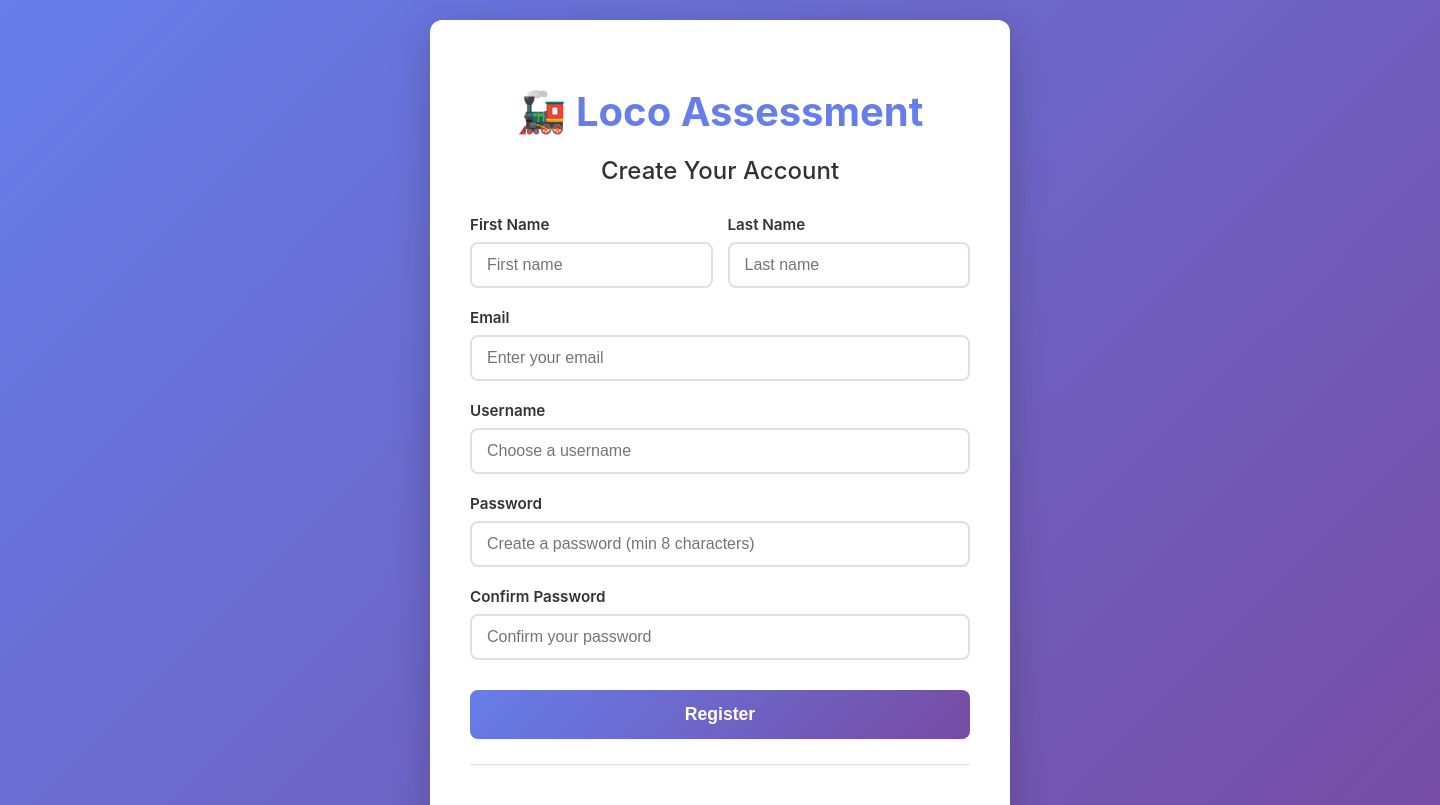
Test: Register Component › handles registration failure
The width and height of the screenshot is (1440, 805).
Type "John" into the field labelled "First Name" at {"x": 591, "y": 265}, box [470,242,712,288]
Type "Doe" into the field labelled "Last Name" at {"x": 849, "y": 265}, box [728,242,970,288]
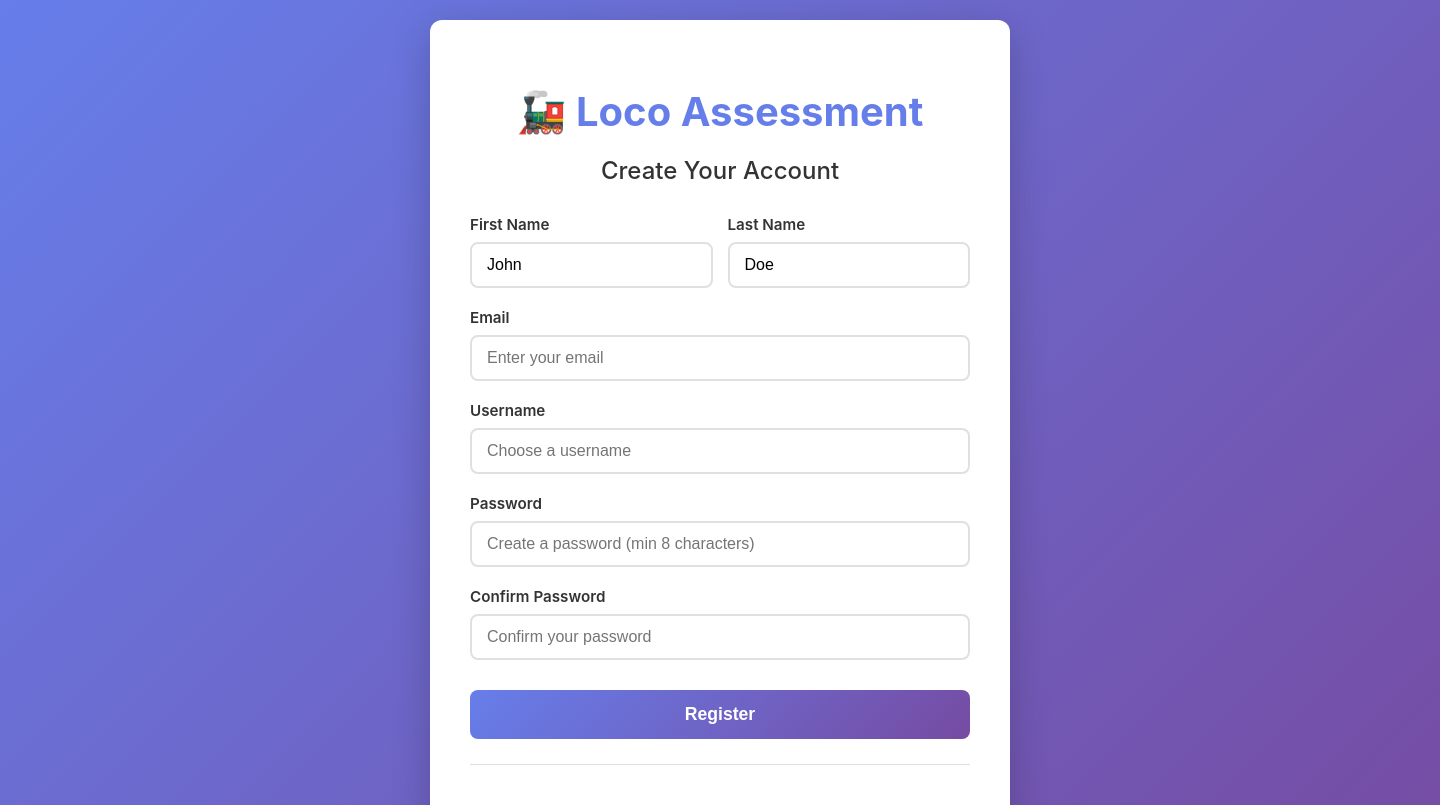
Type "existing@example.com" into the field labelled "Email" at {"x": 720, "y": 358}, box [470,335,970,381]
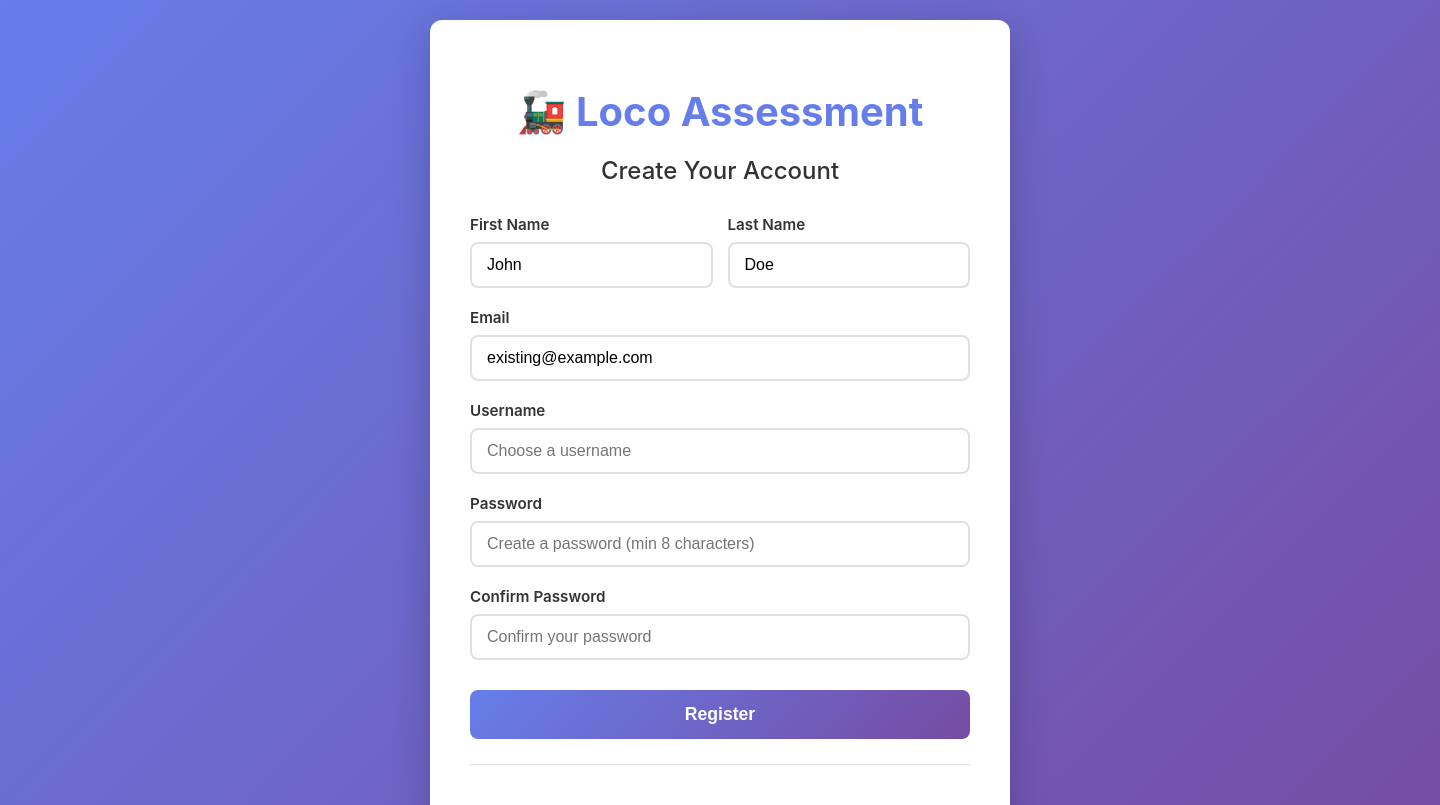
Type "johndoe" into the field labelled "Username" at {"x": 720, "y": 451}, box [470,428,970,474]
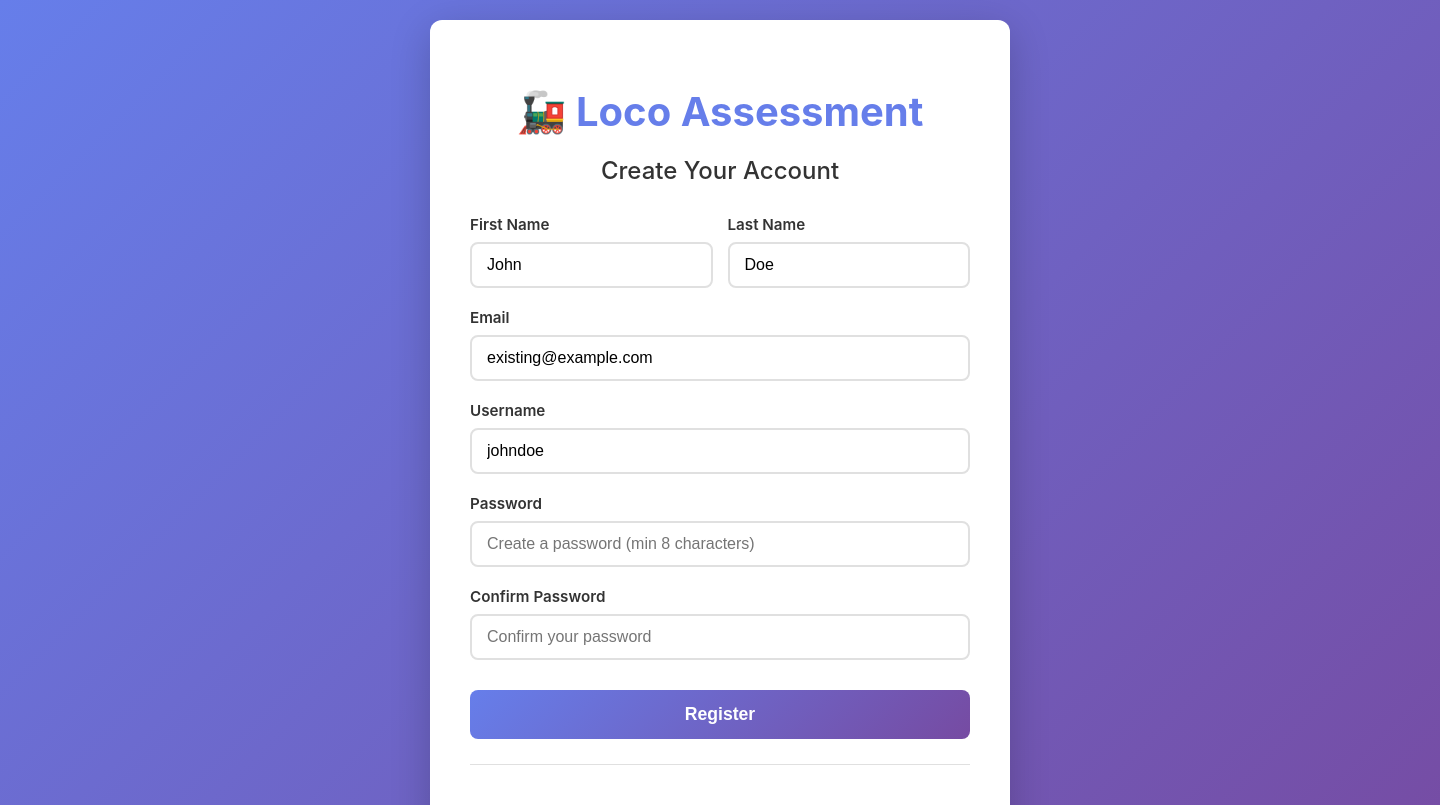
Type "password123" into the password field labelled "Password" at {"x": 720, "y": 544}, box [470,521,970,567]
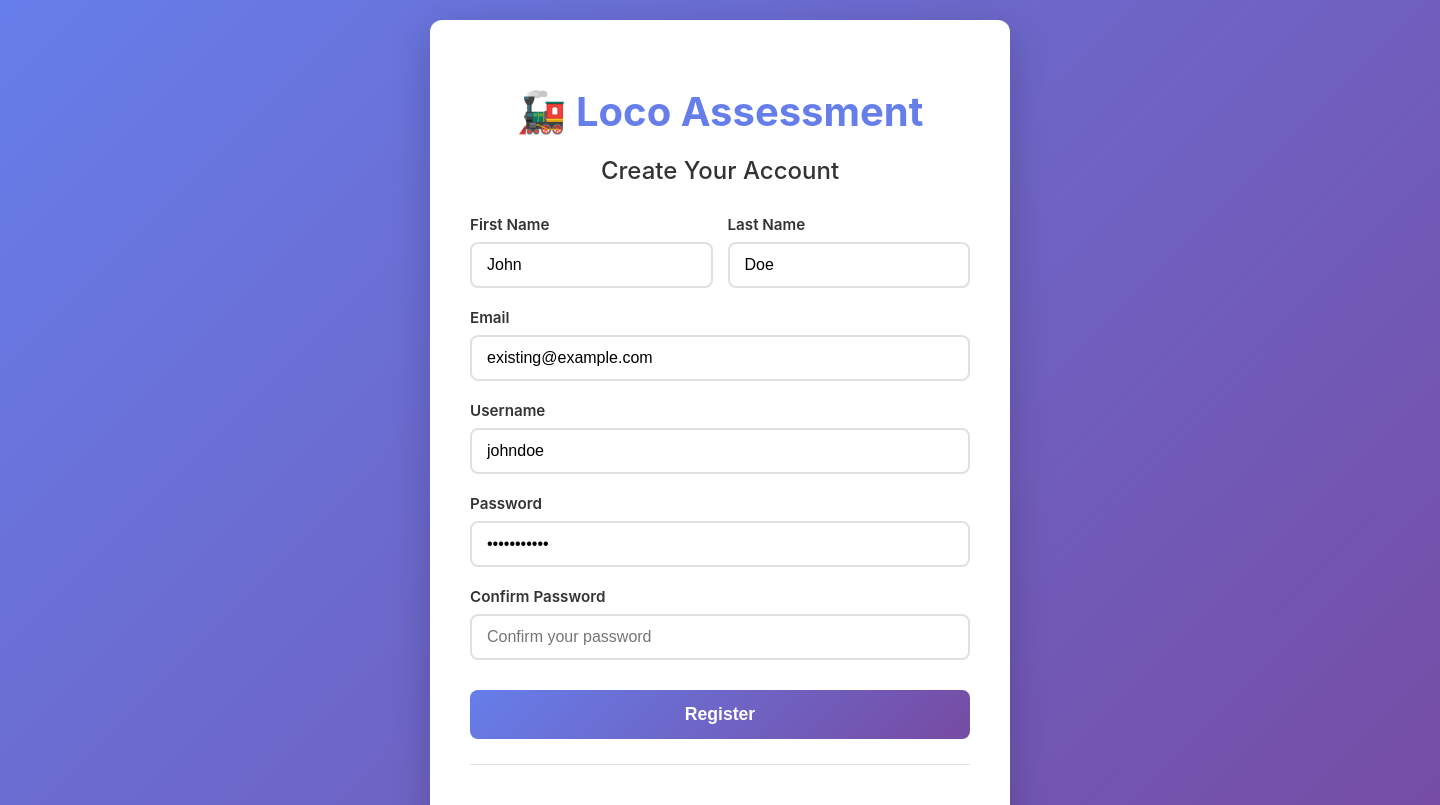
Type "password123" into the password field labelled "Confirm Password" at {"x": 720, "y": 637}, box [470,614,970,660]
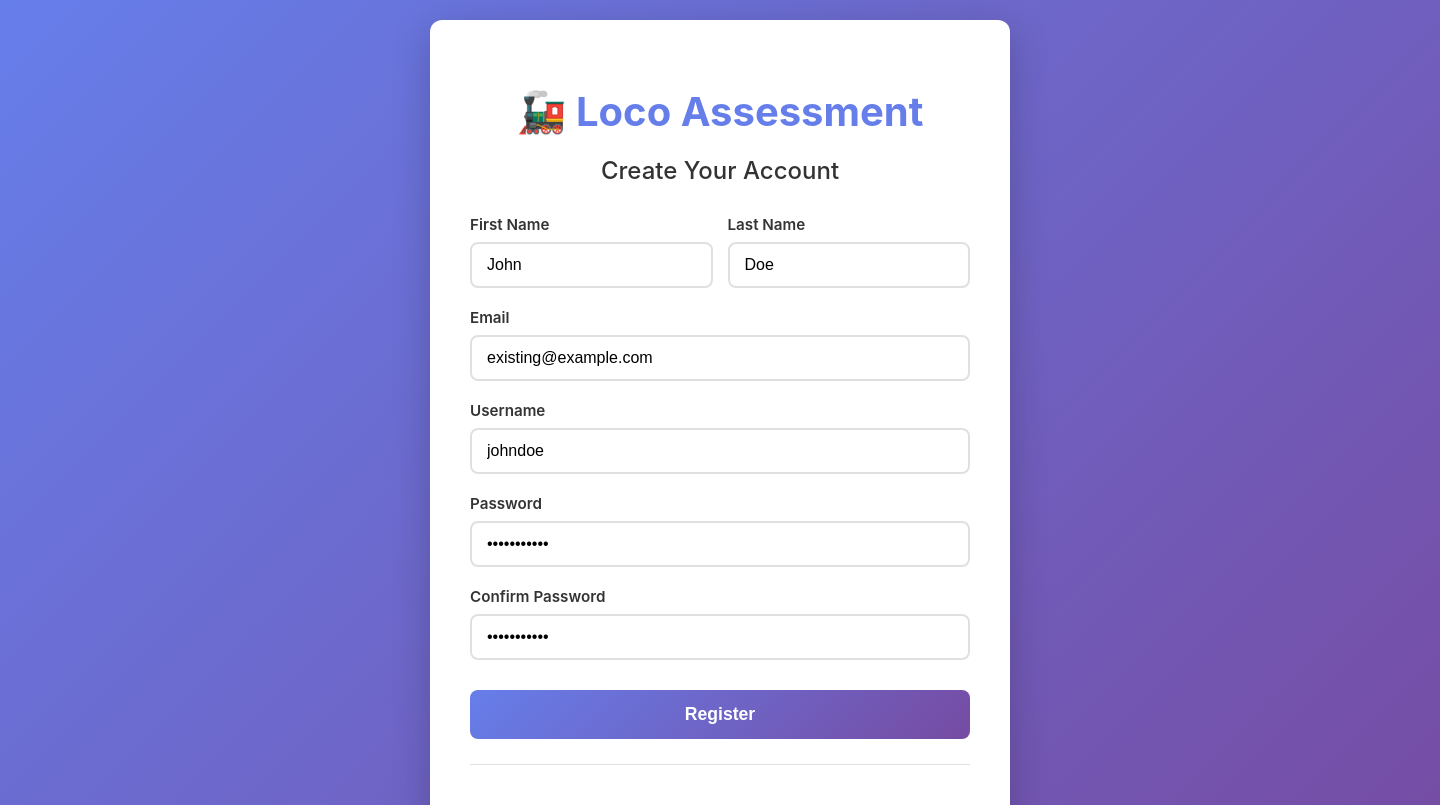
Click the button "Register" at {"x": 720, "y": 714}, box [470,690,970,739]
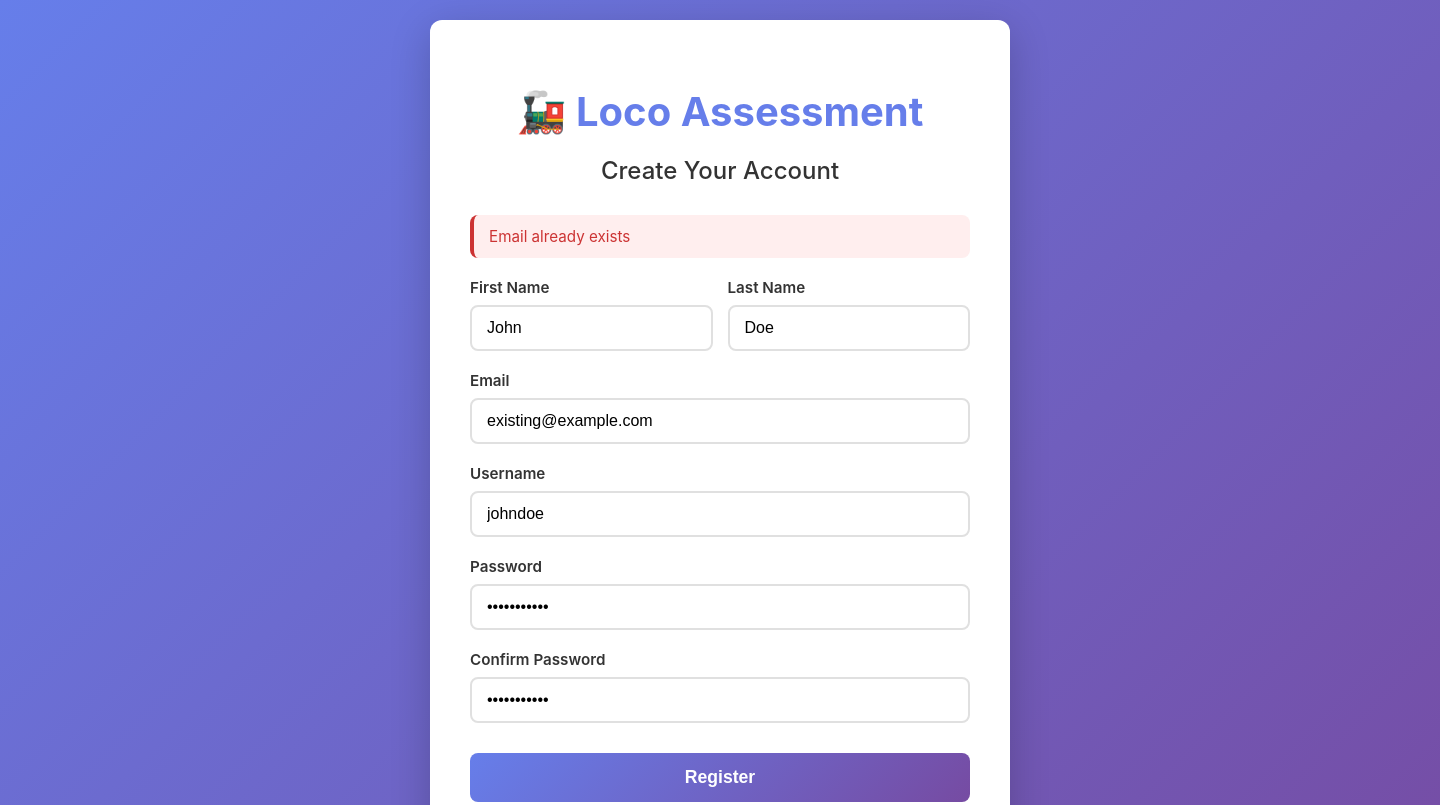
Expected: the text "Email already exists" is shown, [470,215,970,258]
